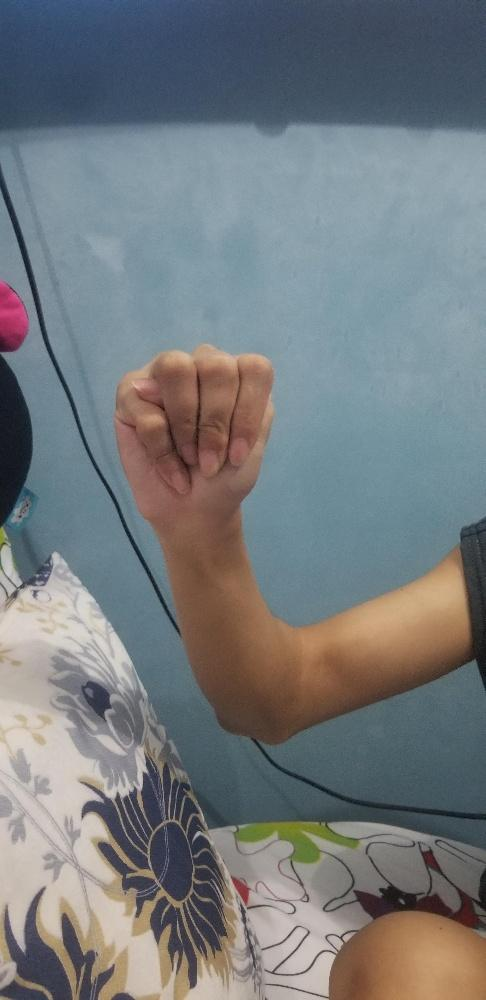m: (112, 340, 275, 529)
